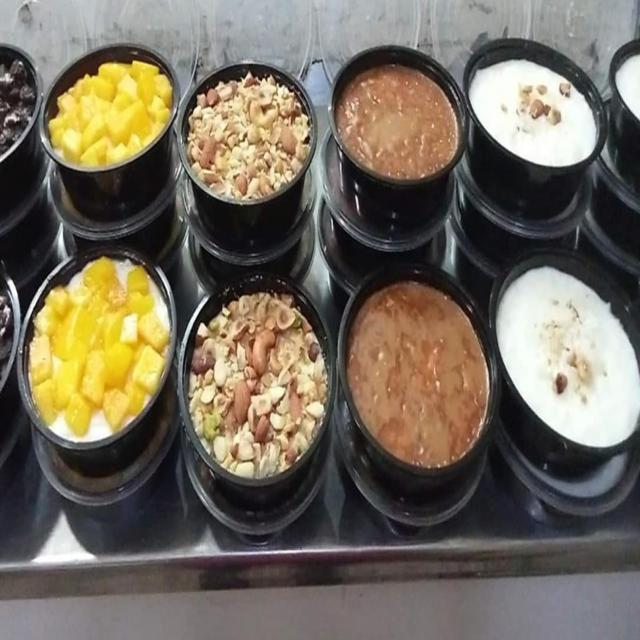roz blabn: (494, 262, 640, 468), (468, 51, 600, 182)
